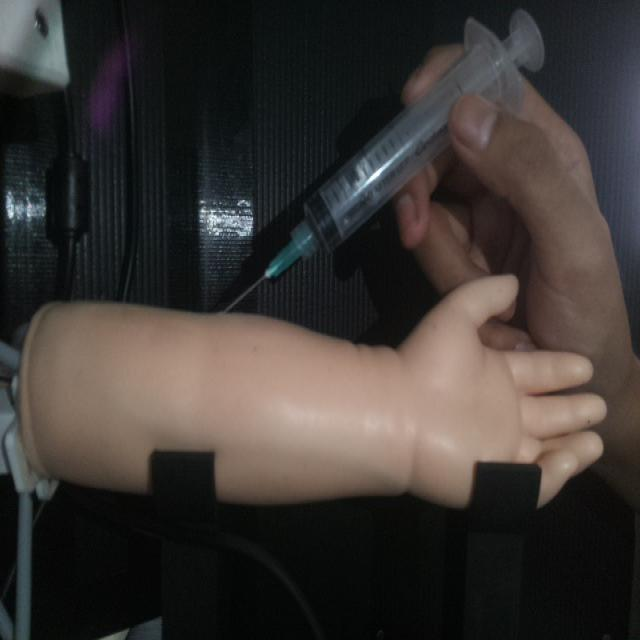Outside: (213, 5, 546, 315)
